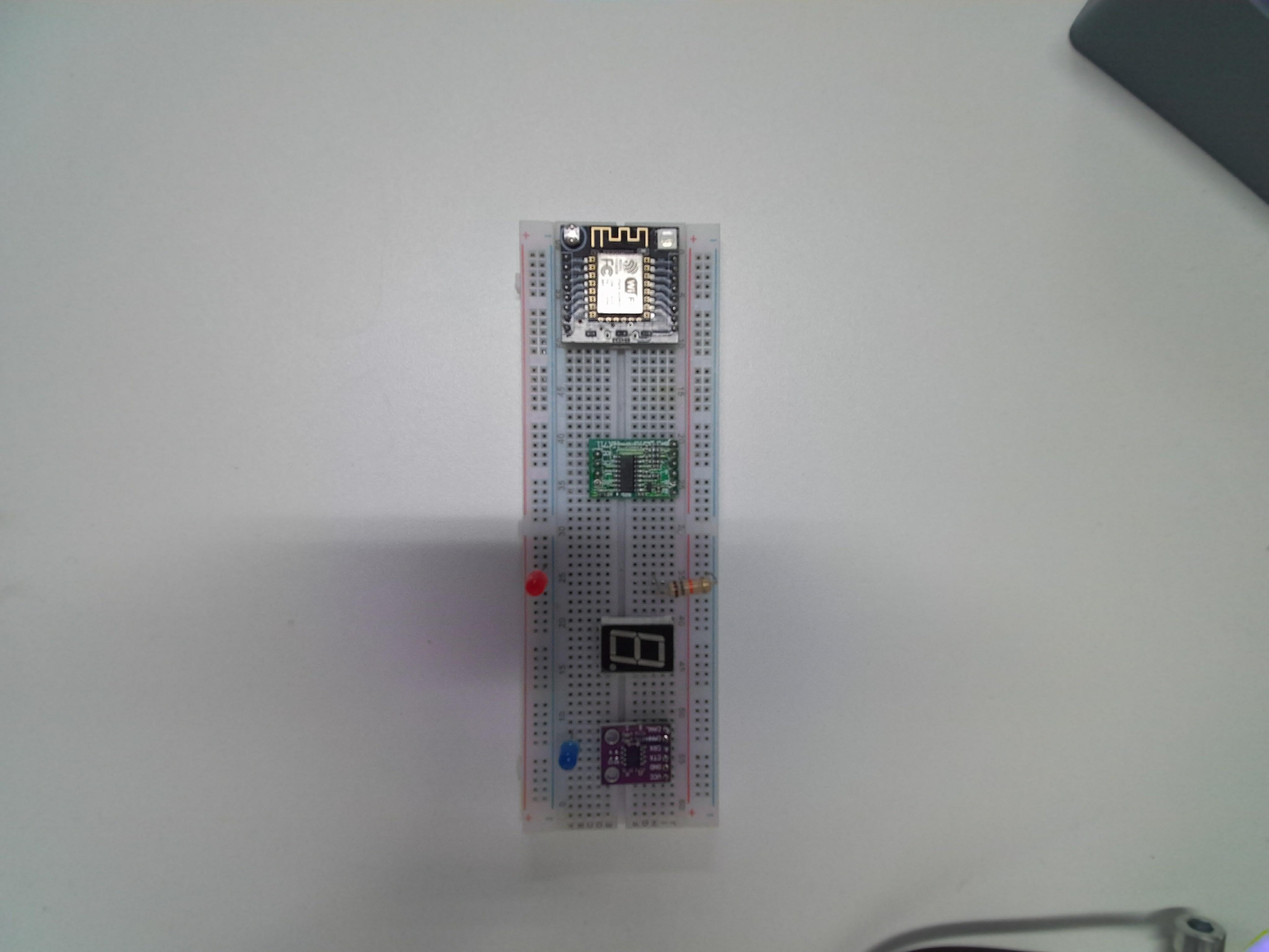base: (515, 220, 725, 832)
blue-led: (553, 735, 582, 776)
digit-board: (593, 611, 680, 678)
esp: (557, 222, 681, 344)
green-board: (582, 436, 681, 505)
purple-board: (595, 718, 681, 792)
red-led: (519, 566, 552, 601)
resistor-big: (655, 574, 714, 604)
